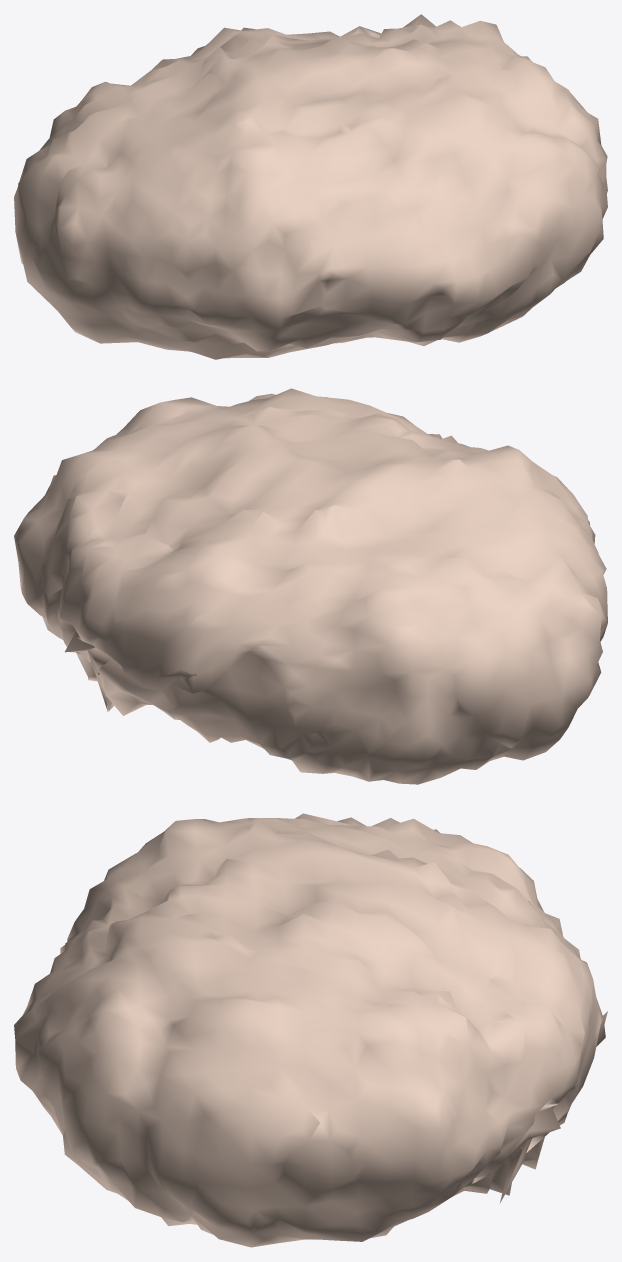
The model's file is SM_Boulder_B.fbx.
3 renders of one model, top to bottom at view 1: azimuth 30°, elevation 25°; view 2: azimuth 150°, elevation 25°; view 3: azimuth 270°, elevation 25°, orthographic. The views are drawn at different scales.
Parts seen in each view (by area): view 1: SM_Boulder_B; view 2: SM_Boulder_B; view 3: SM_Boulder_B.
Boxes of the visible parts, <box> form: SM_Boulder_B: <box>14,14,607,359</box>; SM_Boulder_B: <box>14,388,607,784</box>; SM_Boulder_B: <box>14,813,607,1247</box>.
Bounding box in the file's own units: 718 × 295 × 610.
